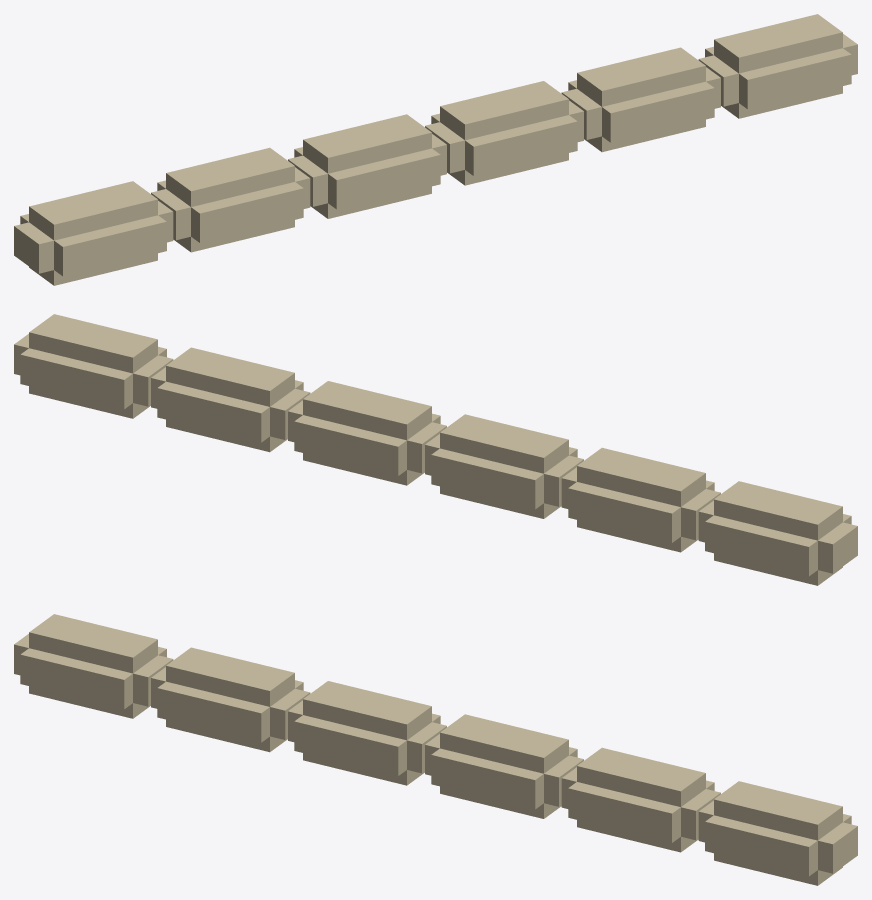
The model's file is sandbags.glb.
3 renders of one model, top to bottom at view 1: azimuth 30°, elevation 25°; view 2: azimuth 150°, elevation 25°; view 3: azimuth 330°, elevation 25°, orthographic.
Visible parts, largest first — view 1: Bag; view 2: Bag; view 3: Bag.
Boxes of the visible parts, left/top/right/bottom form: Bag: left=14, top=14, right=857, bottom=285; Bag: left=14, top=314, right=857, bottom=585; Bag: left=14, top=614, right=857, bottom=885.
Bounding box in the file's own units: 3.78 × 0.27 × 0.34.
